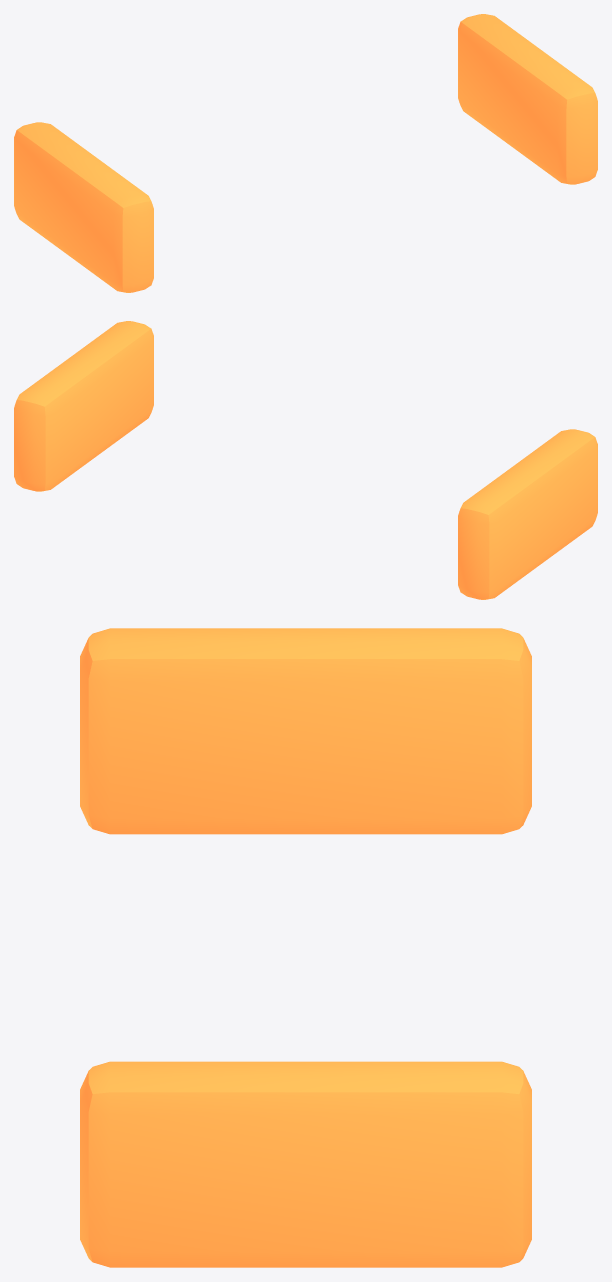
Rendered from multitool_light_flamer.glb.
3 renders of one model, top to bottom at view 1: azimuth 30°, elevation 25°; view 2: azimuth 150°, elevation 25°; view 3: azimuth 270°, elevation 25°, orthographic. The views are drawn at different scales.
Visible parts, largest first — view 1: multitool_light_flamer; view 2: multitool_light_flamer; view 3: multitool_light_flamer.
Part boxes in pixels (x1,y1,x2,y2): multitool_light_flamer: [14, 14, 597, 292]; multitool_light_flamer: [14, 321, 597, 599]; multitool_light_flamer: [80, 628, 531, 1267].
Bounding box in the file's own units: 0.074 × 0.014 × 0.03.
